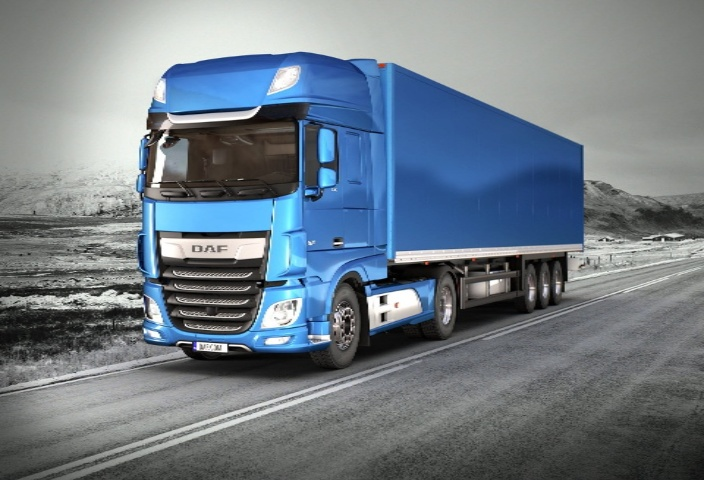truck: (121, 43, 602, 365)
